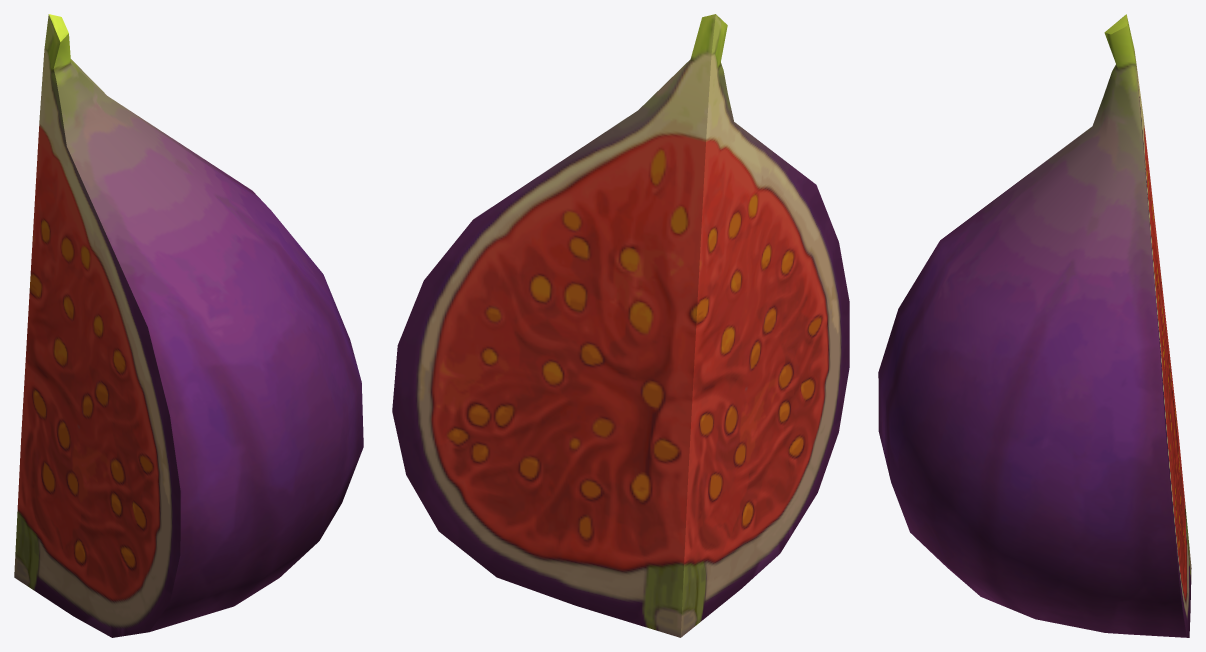
Rendered from SM_FigSliceB.fbx.
The picture shows the model from 3 angles, left to right: view 1: azimuth 30°, elevation 25°; view 2: azimuth 150°, elevation 25°; view 3: azimuth 270°, elevation 25°; orthographic projection. The views are drawn at different scales.
Visible parts, largest first — view 1: SM_FigSliceB; view 2: SM_FigSliceB; view 3: SM_FigSliceB.
Part boxes in pixels (<box>): SM_FigSliceB: <box>14,14,363,637</box>; SM_FigSliceB: <box>392,14,849,637</box>; SM_FigSliceB: <box>878,14,1191,637</box>.
Size of the model in its own units: 5.69 by 10.98 by 5.63.
